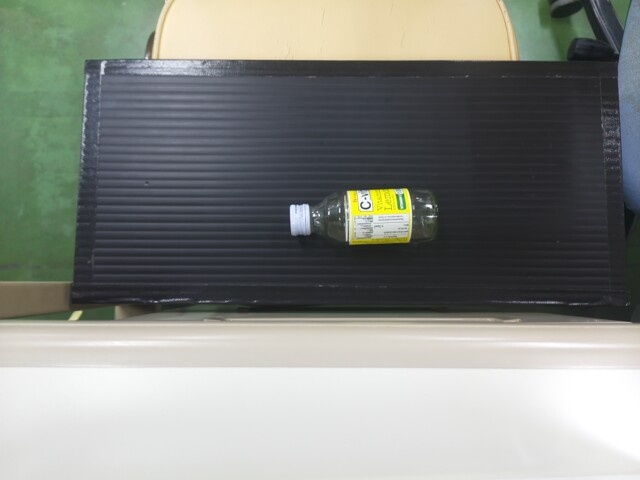glass_bottle: (286, 185, 438, 246)
